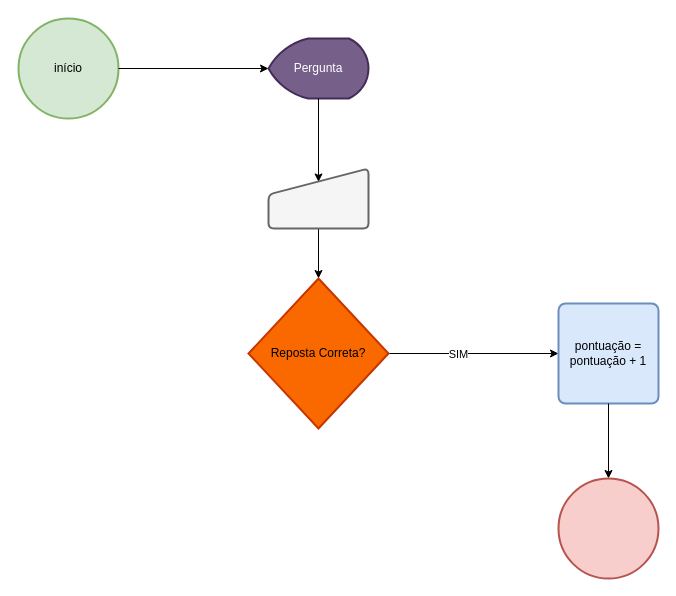
This 676x596 diagram has some shape labels left out. Each missing label, with the centre of its shape:
"Fim" goes at point (608, 528).
"resposta = x" goes at point (318, 198).
